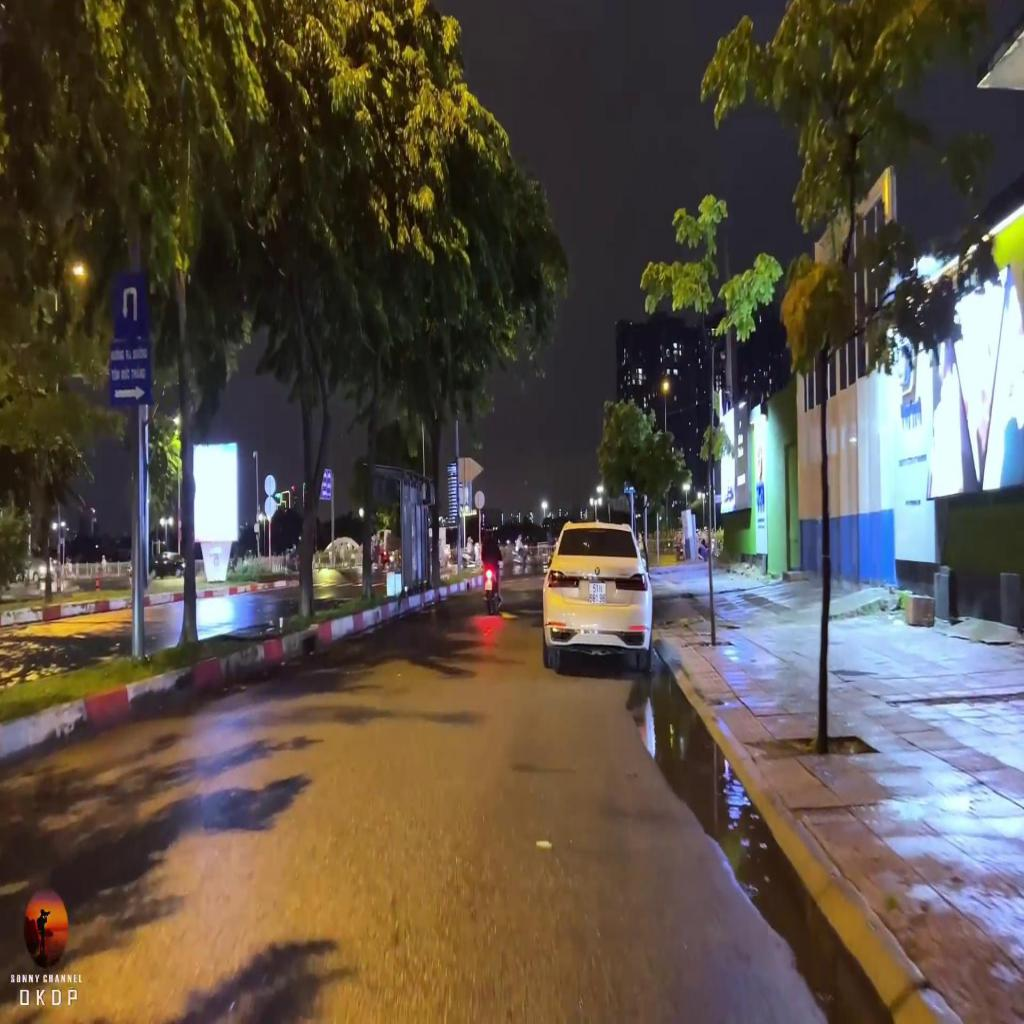cho_quay_xe: (114, 272, 154, 339)
khac: (107, 344, 151, 407)
